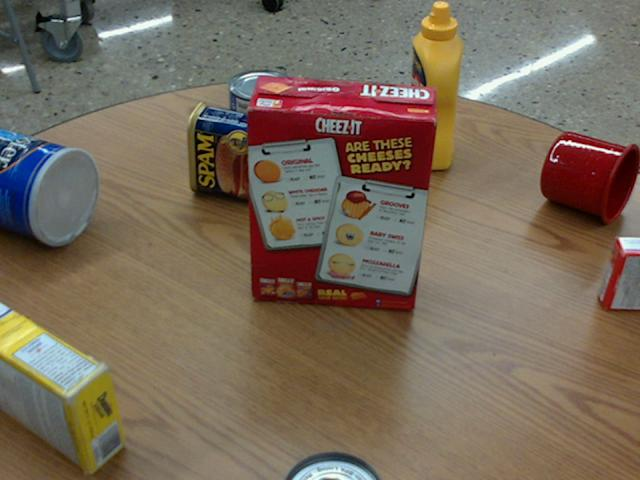cracker_box: (246, 75, 439, 307)
gelatin_box: (601, 239, 639, 311)
master_chef_can: (0, 127, 101, 245)
mug: (541, 131, 639, 223)
mustard_bottle: (405, 1, 463, 168)
potted_meat_can: (187, 100, 275, 199)
sugar_box: (0, 299, 125, 471)
tomato_soup_can: (287, 451, 384, 479)
tuna_fish_can: (229, 67, 295, 121)
